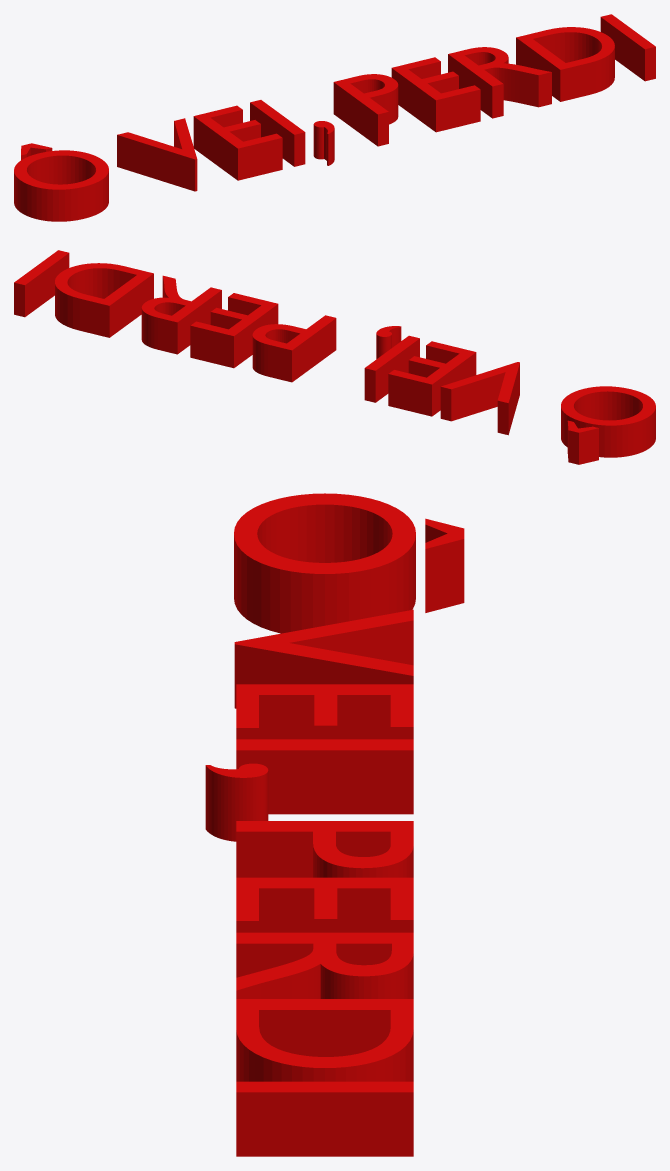
The picture shows the model from 3 angles, top to bottom: view 1: azimuth 30°, elevation 25°; view 2: azimuth 150°, elevation 25°; view 3: azimuth 270°, elevation 25°; orthographic projection. The views are drawn at different scales.
Visible parts, largest first — view 1: Text; view 2: Text; view 3: Text.
Boxes of the visible parts, bbox=[...] form: Text: bbox=[14, 14, 655, 221]; Text: bbox=[14, 250, 655, 464]; Text: bbox=[205, 493, 464, 1156].
Size of the model in its own units: 5.45 by 0.272 by 0.995.
